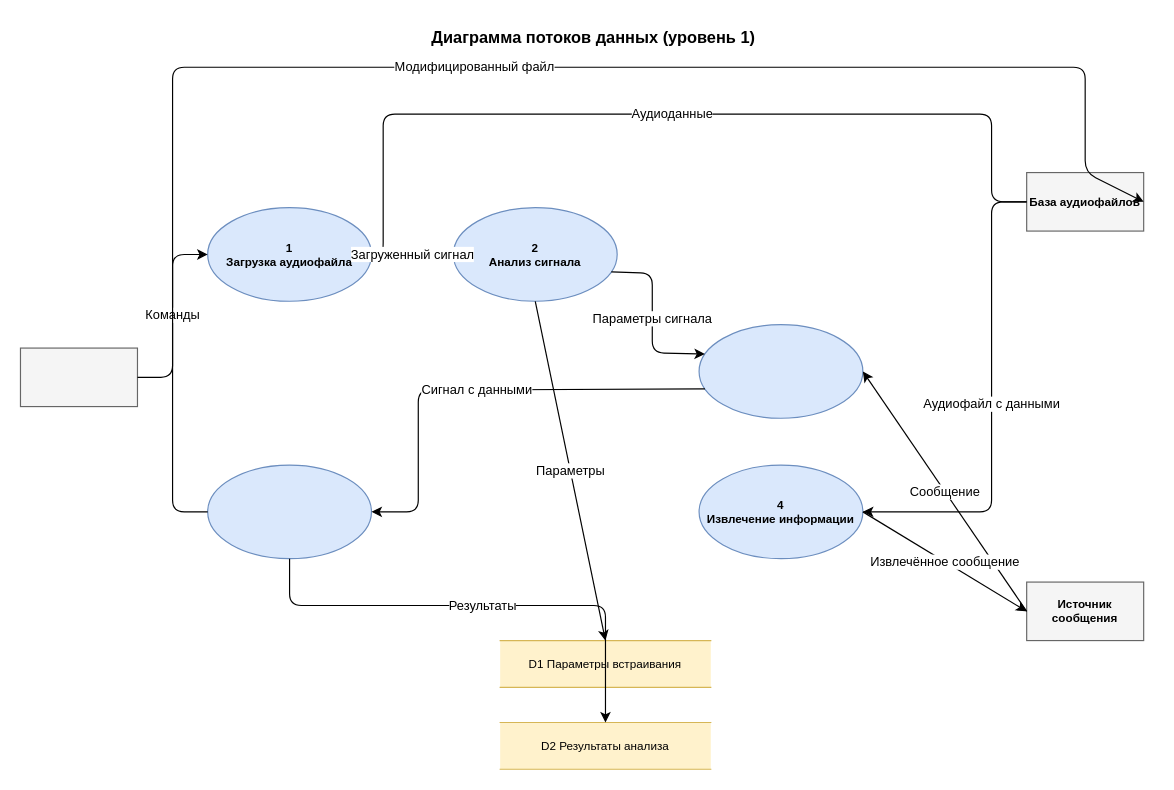
Image size: 1174x790. Some labels were removed from this diagram. Here are the shapes that lost their labels. From the top down, the centre of each, then its label:
(78,377): Пользователь
(780,371): 3 Встраивание информации
(289,511): 5 Сохранение результатов
